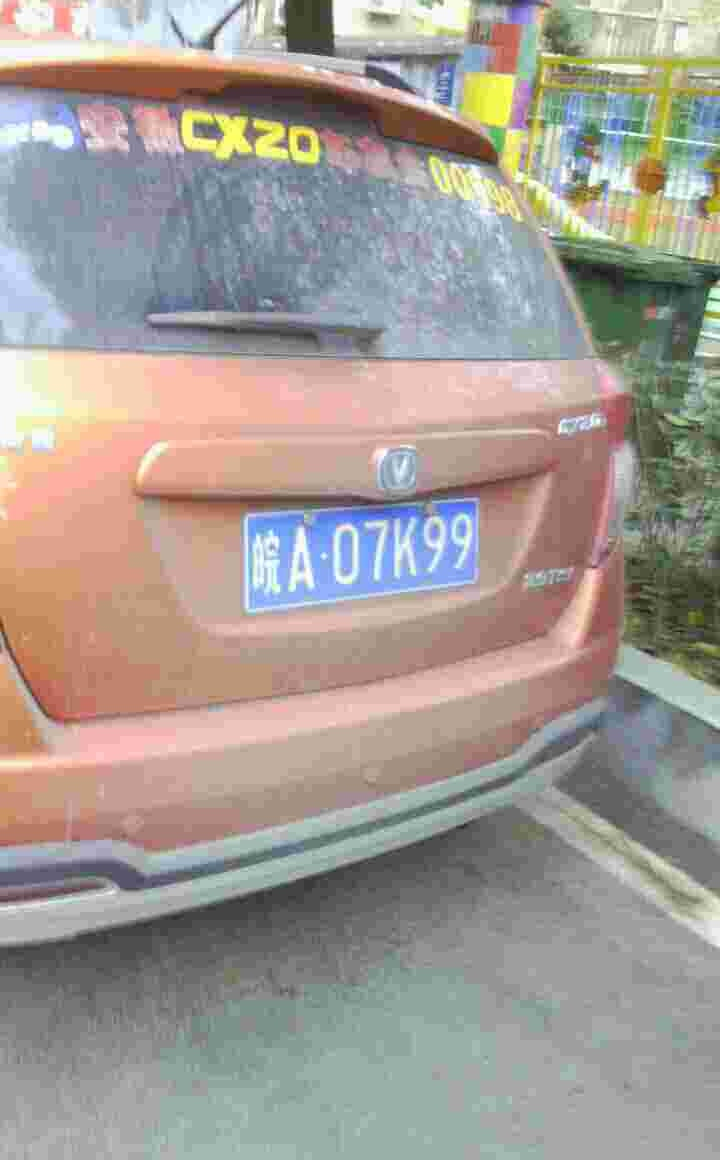license_plate: (248, 494, 486, 608)
